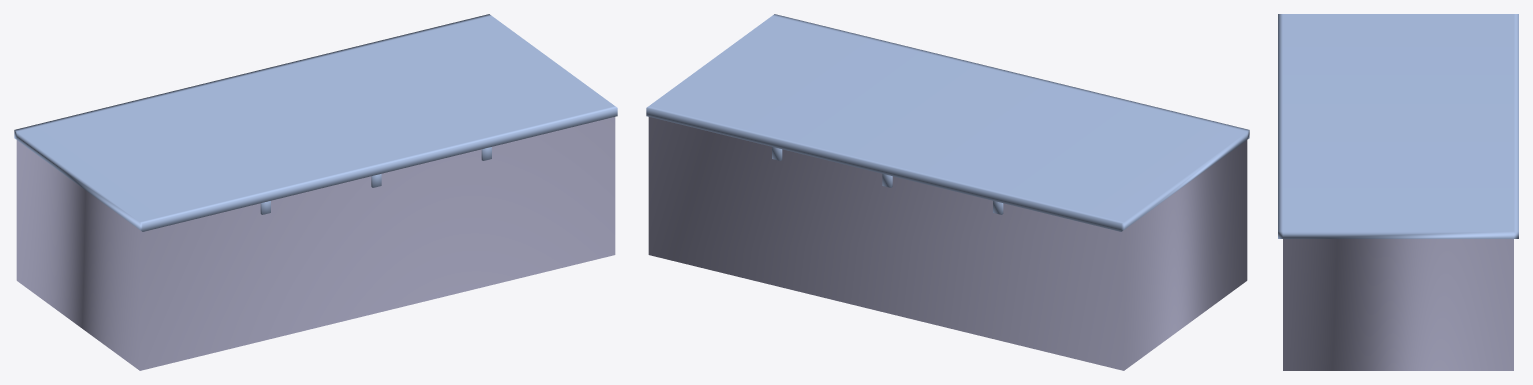
File: Building_A_12.fbx
The picture shows the model from 3 angles, left to right: view 1: azimuth 30°, elevation 25°; view 2: azimuth 150°, elevation 25°; view 3: azimuth 270°, elevation 25°; orthographic projection. The views are drawn at different scales.
Visible parts, largest first — view 1: Building_A_12; view 2: Building_A_12; view 3: Building_A_12.
Boxes of the visible parts, x1,y1,x2,y2 form: Building_A_12: (14, 14, 617, 370); Building_A_12: (646, 14, 1249, 370); Building_A_12: (1278, 14, 1518, 370).
Size of the model in its own units: 931 by 279 by 436.
